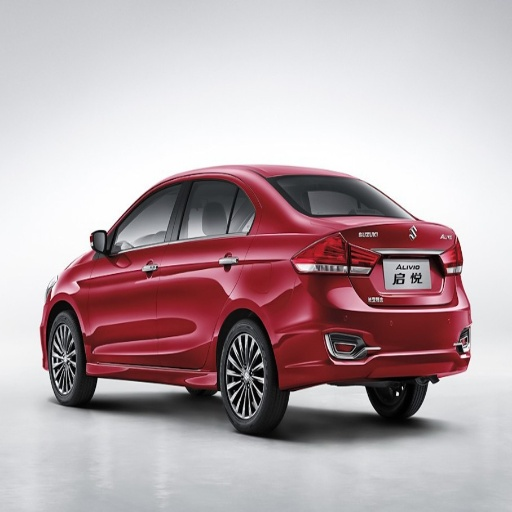back_bumper: (275, 280, 470, 387)
back_glass: (269, 175, 406, 215)
back_left_door: (159, 176, 257, 368)
tailgate: (346, 217, 454, 304)
trunk: (355, 275, 450, 310)
